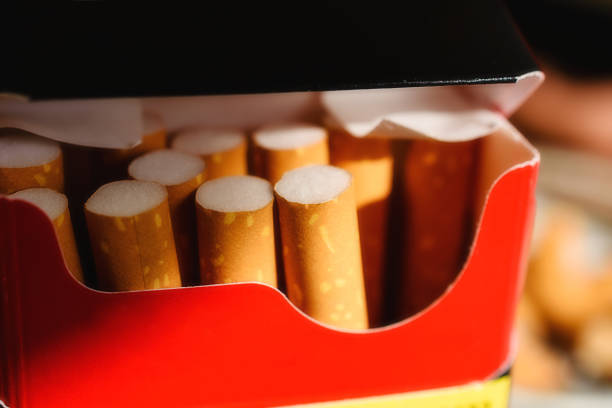cigarette: (0, 107, 542, 408), (390, 139, 479, 326), (273, 166, 370, 329), (324, 117, 396, 328), (127, 148, 209, 286), (194, 175, 287, 296), (84, 179, 183, 287), (0, 185, 85, 284), (250, 123, 330, 183), (168, 126, 249, 177), (0, 132, 67, 193)
